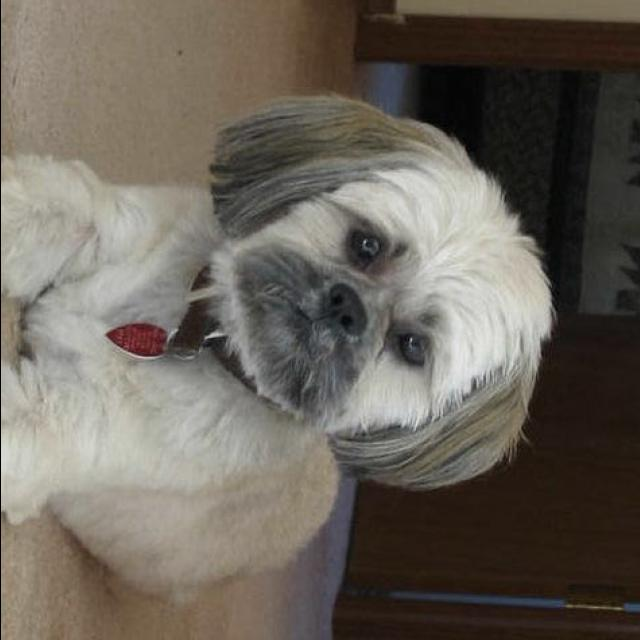shih_tzu: (5, 92, 552, 599)
